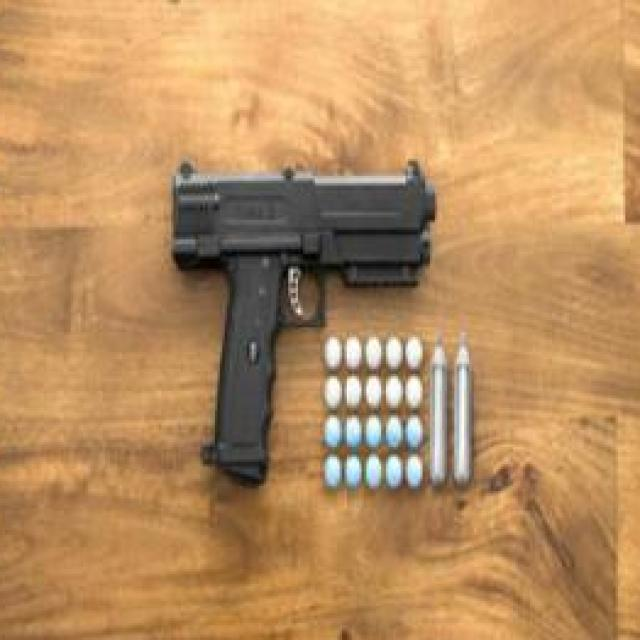pistol: (168, 154, 440, 487)
